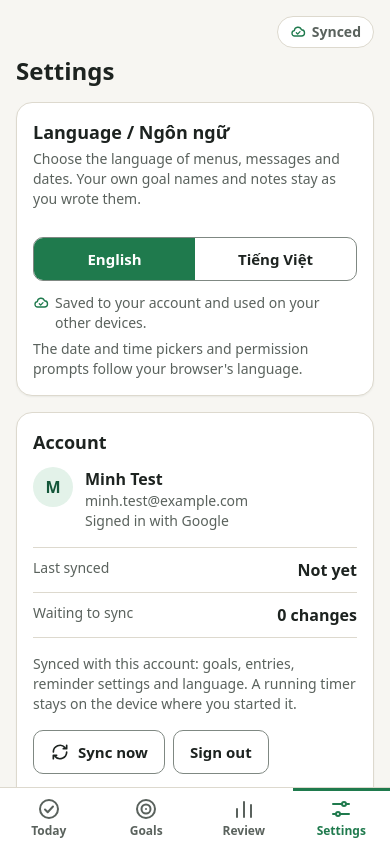
Scenario: Settings — Account card with cloud on (M6-AC6 … AC9, AC11) › Sign out → Keep: signed out, data kept, toast, focus on the card heading
The image size is (390, 844).
Click the button "Sign out". click: coordinates (221, 752)
box: x1=173 y1=730 x2=269 y2=774
(page scrolled)
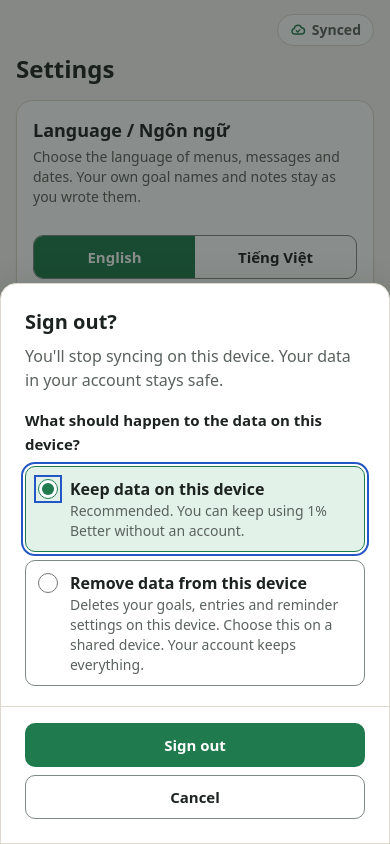
Click the button with test id "signout-confirm". click: coordinates (195, 745)
box: x1=25 y1=723 x2=365 y2=767
(page scrolled)
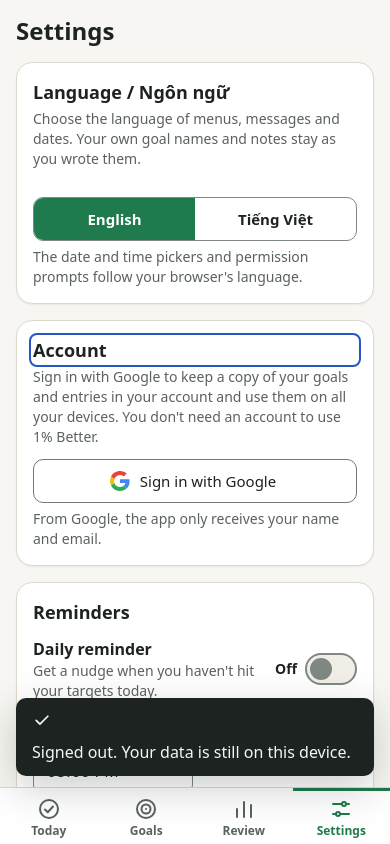
Expected: the element with test id "toast" reads "Signed out. Your data is still on this device.", x1=32 y1=741 x2=351 y2=763
